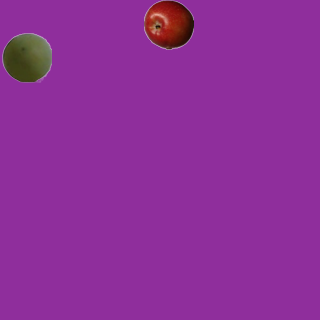Apple Braeburn: (143, 0, 193, 49)
Grape White 4: (1, 32, 51, 82)
